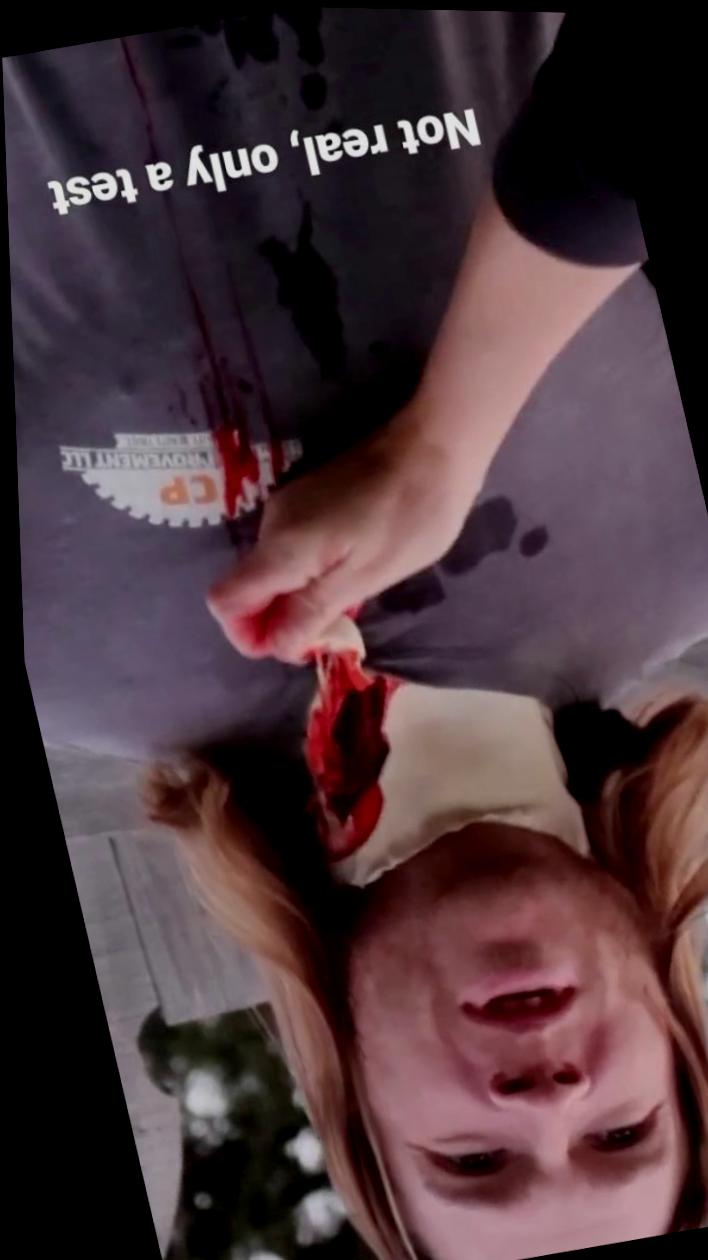Fire: (162, 196, 254, 521), (298, 648, 395, 861), (239, 314, 279, 482), (118, 35, 157, 158)
